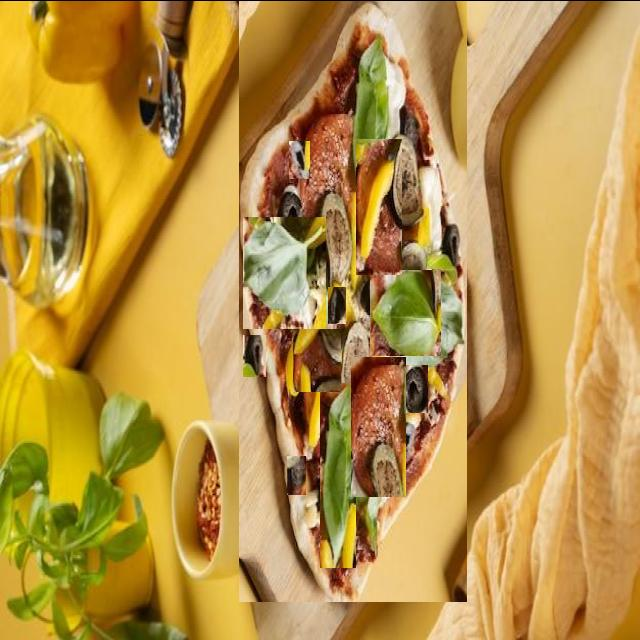basil: (243, 216, 326, 328), (320, 382, 356, 567), (317, 43, 357, 205), (370, 269, 441, 355)
olive: (360, 82, 386, 132), (402, 364, 428, 412), (243, 334, 266, 376), (289, 140, 310, 178), (287, 455, 306, 494), (328, 286, 346, 323)
pepperoni: (351, 356, 406, 496), (356, 138, 402, 274), (293, 326, 341, 391)
pizza: (239, 0, 467, 601)
